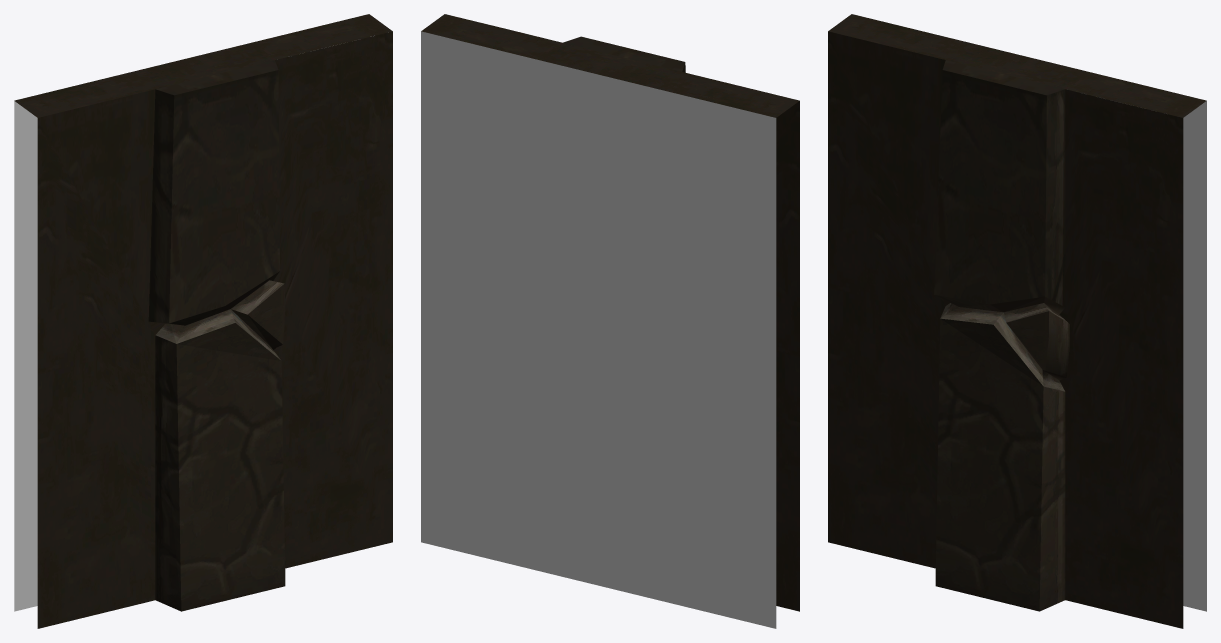
The model's file is fortress_wall_straight_02_e.fbx.
The picture shows the model from 3 angles, left to right: view 1: azimuth 30°, elevation 25°; view 2: azimuth 150°, elevation 25°; view 3: azimuth 330°, elevation 25°; orthographic projection.
Parts seen in each view (by area): view 1: fortress_wall_straight_02_e-0; view 2: fortress_wall_straight_02_e-0; view 3: fortress_wall_straight_02_e-0.
Part boxes in pixels (x1,y1,x2,y2): fortress_wall_straight_02_e-0: (14,14,392,628); fortress_wall_straight_02_e-0: (421,14,799,628); fortress_wall_straight_02_e-0: (828,14,1206,628).
Bounding box in the file's own units: 4 × 5.5 × 0.8147.
